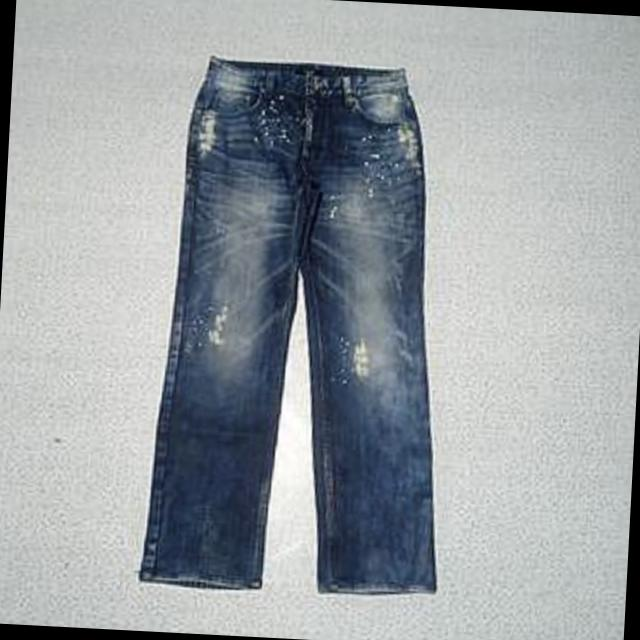TROUSER: (138, 41, 472, 614)
